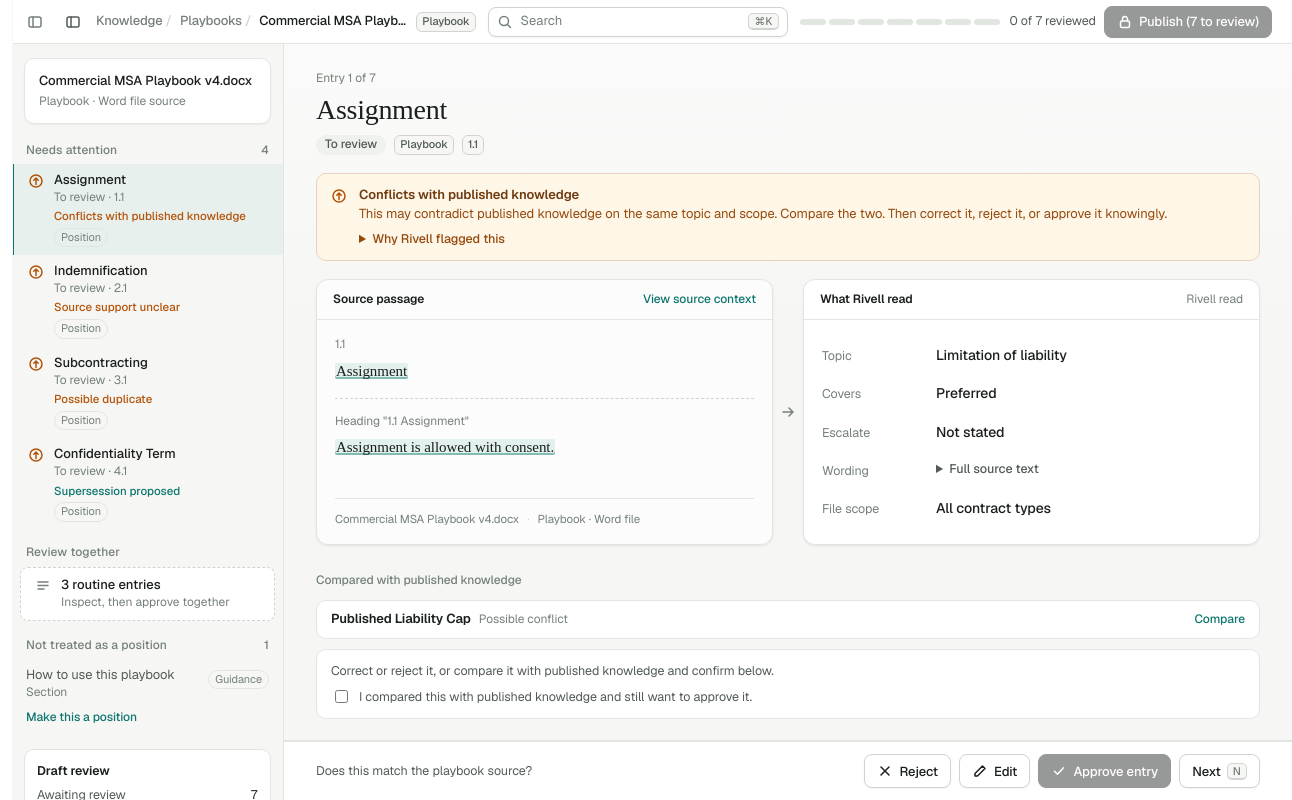
Test case: compilation workspace › keeps conditions apart from the review outcome
Expected: the heading "Assignment" is shown, [316, 94, 447, 125]
Step 1. Click the button "Subcontracting To review · 3.1 Possible duplicate Position" → (148, 392), box [12, 347, 283, 438]
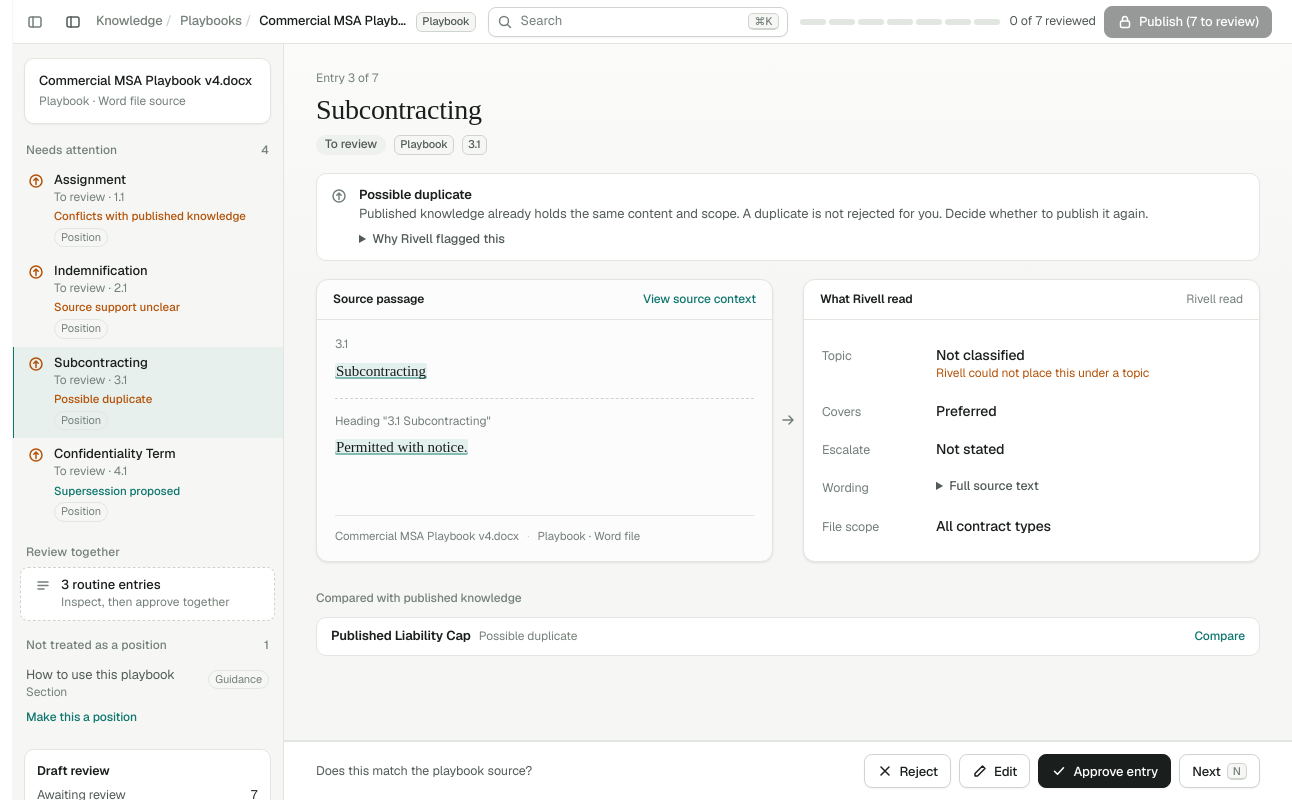
Expected: the text "Does this match the playbook source?" is shown, [316, 763, 532, 780]
Expected: the heading "Subcontracting" is shown, [316, 94, 482, 125]
Expected: the text "not rejected for you" is shown, [359, 205, 1148, 222]
